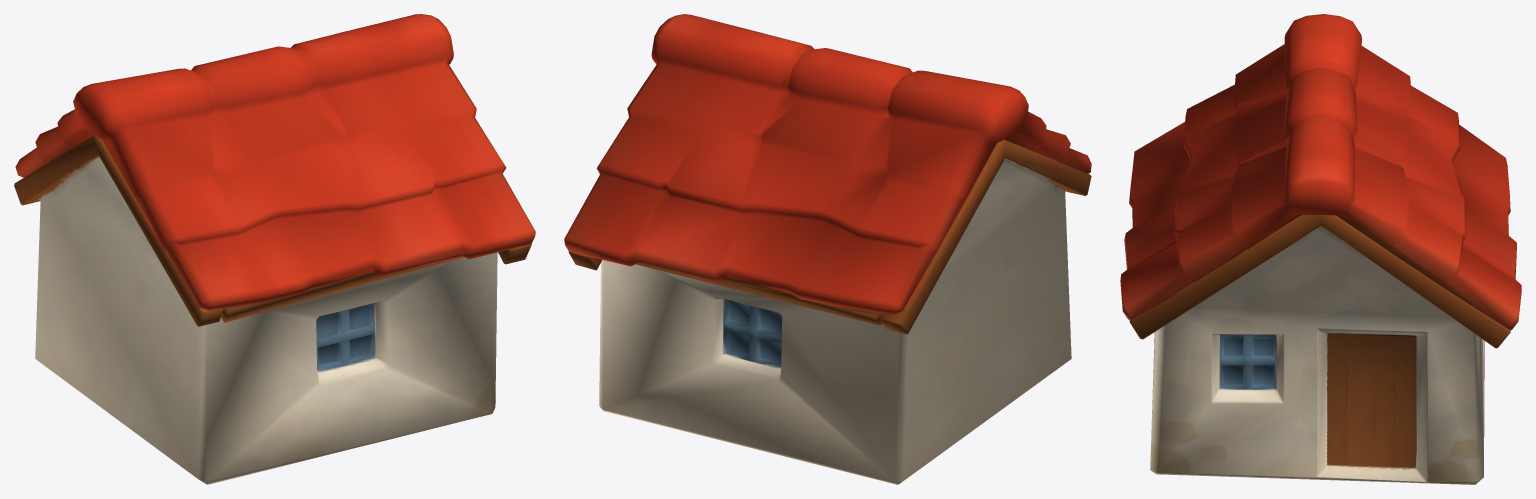
3 views of the same model, side by side, from view 1: azimuth 30°, elevation 25°; view 2: azimuth 150°, elevation 25°; view 3: azimuth 270°, elevation 25° (orthographic). The views are drawn at different scales.
Parts seen in each view (by area): view 1: tripo_node_8042f2ac-943e-40c1-ad0e-be87e5a3c65e; view 2: tripo_node_8042f2ac-943e-40c1-ad0e-be87e5a3c65e; view 3: tripo_node_8042f2ac-943e-40c1-ad0e-be87e5a3c65e.
Part boxes in pixels (x1,y1,x2,y2): tripo_node_8042f2ac-943e-40c1-ad0e-be87e5a3c65e: [14, 14, 535, 484]; tripo_node_8042f2ac-943e-40c1-ad0e-be87e5a3c65e: [564, 14, 1091, 484]; tripo_node_8042f2ac-943e-40c1-ad0e-be87e5a3c65e: [1120, 14, 1521, 484].
Size of the model in its own units: 0.9551 by 0.8887 by 0.998.
1 material, 1 textured.
